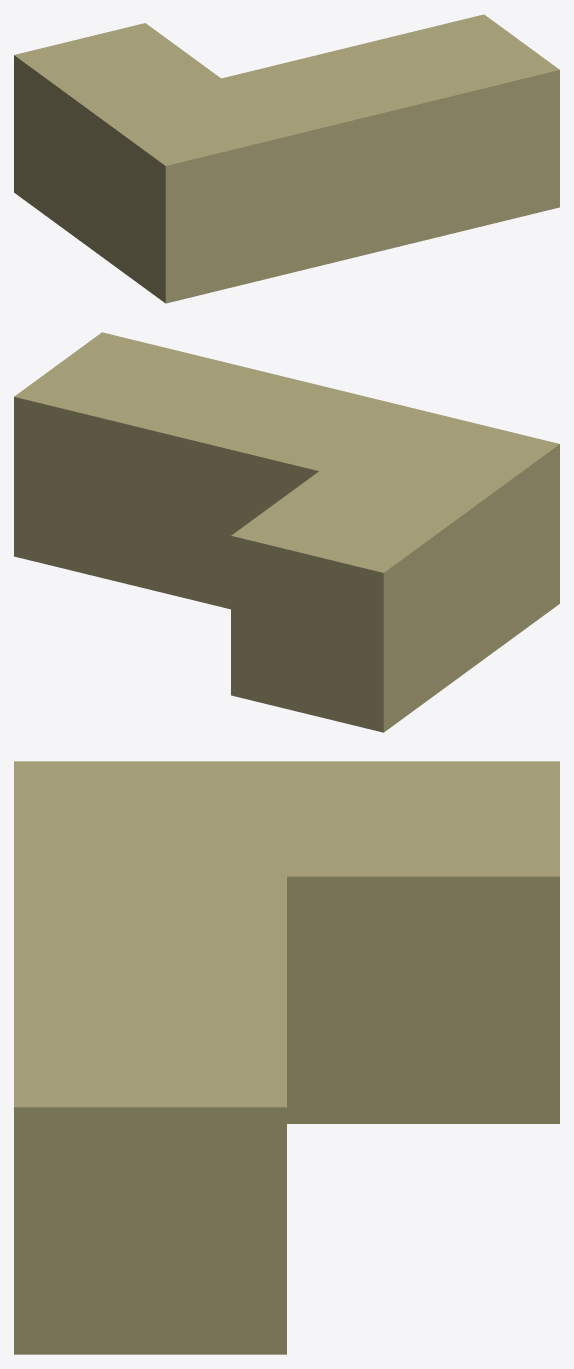
Rendered from cube_L_Flip.fbx.
3 views of the same model, one above another, from view 1: azimuth 30°, elevation 25°; view 2: azimuth 150°, elevation 25°; view 3: azimuth 270°, elevation 25° (orthographic). The views are drawn at different scales.
Visible parts, largest first — view 1: cube_L_Flip; view 2: cube_L_Flip; view 3: cube_L_Flip.
Part boxes in pixels (x1,y1,x2,y2): cube_L_Flip: (14, 14, 559, 303); cube_L_Flip: (14, 332, 559, 732); cube_L_Flip: (14, 761, 559, 1354).
Size of the model in its own units: 300 by 100 by 200.
